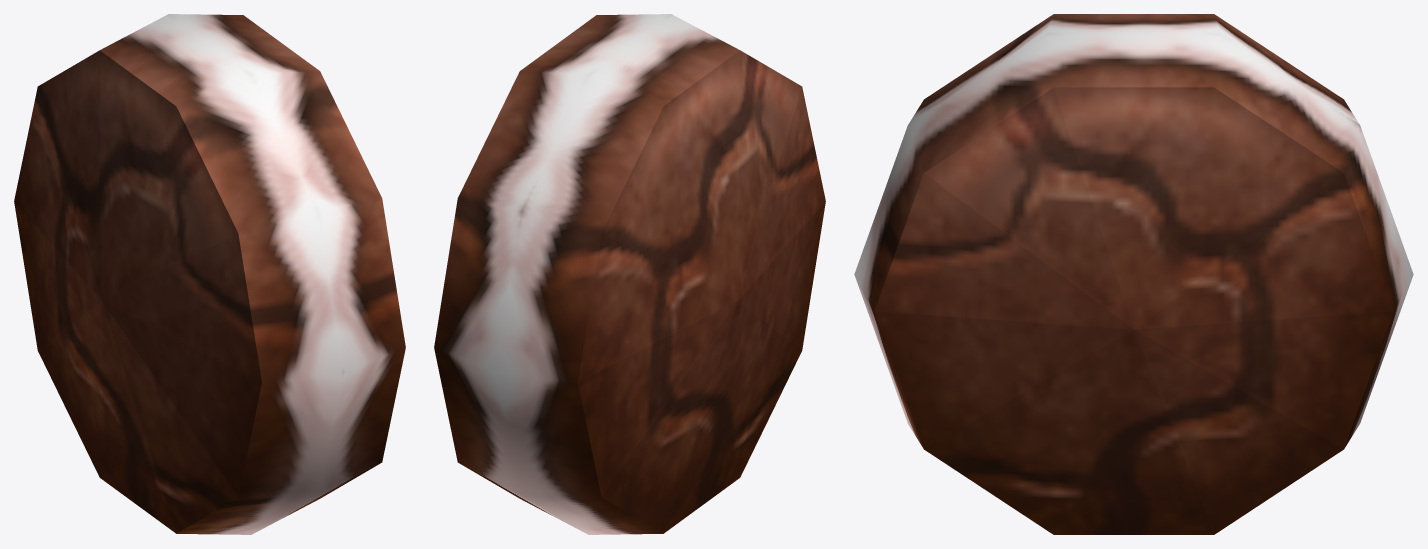
File: scenes_candy_tools03.FBX
3 renders of one model, left to right at view 1: azimuth 30°, elevation 25°; view 2: azimuth 150°, elevation 25°; view 3: azimuth 270°, elevation 25°, orthographic. The views are drawn at different scales.
Parts seen in each view (by area): view 1: scenes_candy_tools03; view 2: scenes_candy_tools03; view 3: scenes_candy_tools03.
Part boxes in pixels (x1=…): scenes_candy_tools03: x1=14, y1=14, x2=405, y2=534; scenes_candy_tools03: x1=434, y1=14, x2=825, y2=534; scenes_candy_tools03: x1=854, y1=14, x2=1413, y2=534.
Size of the model in its own units: 41.97 by 85.49 by 89.89.
